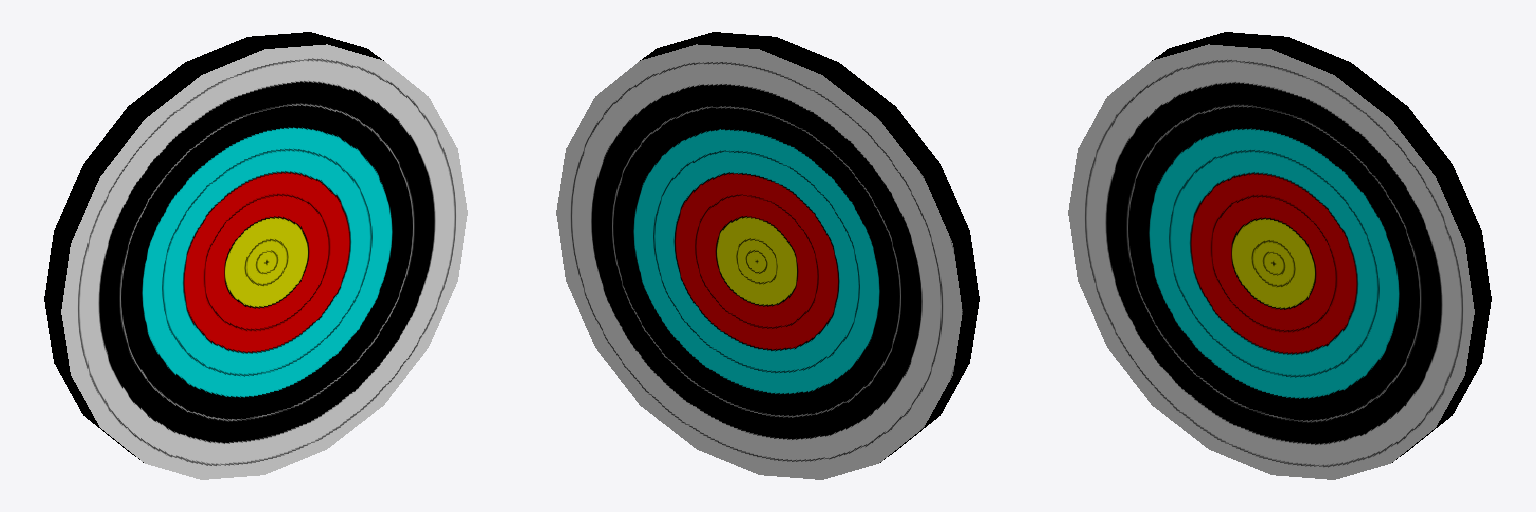
3 renders of one model, left to right at view 1: azimuth 30°, elevation 25°; view 2: azimuth 150°, elevation 25°; view 3: azimuth 330°, elevation 25°, orthographic.
Parts seen in each view (by area): view 1: pasted__pCylinder1 group; view 2: pasted__pCylinder1 group; view 3: pasted__pCylinder1 group.
Boxes of the visible parts, x1,y1,x2,y2 form: pasted__pCylinder1 group: [44, 32, 467, 479]; pasted__pCylinder1 group: [556, 32, 979, 479]; pasted__pCylinder1 group: [1068, 32, 1491, 479].
Size of the model in its own units: 60.96 by 60.96 by 4.41.
Materials: 1 (1 with a texture image).